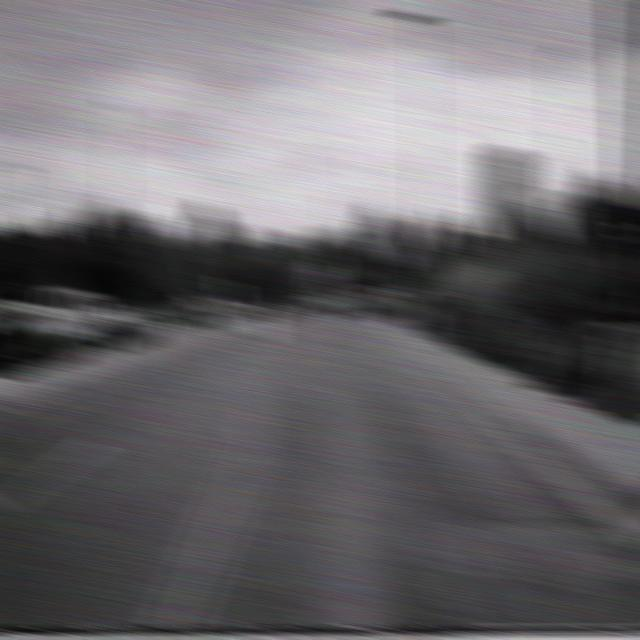stop: (384, 241, 412, 267)
